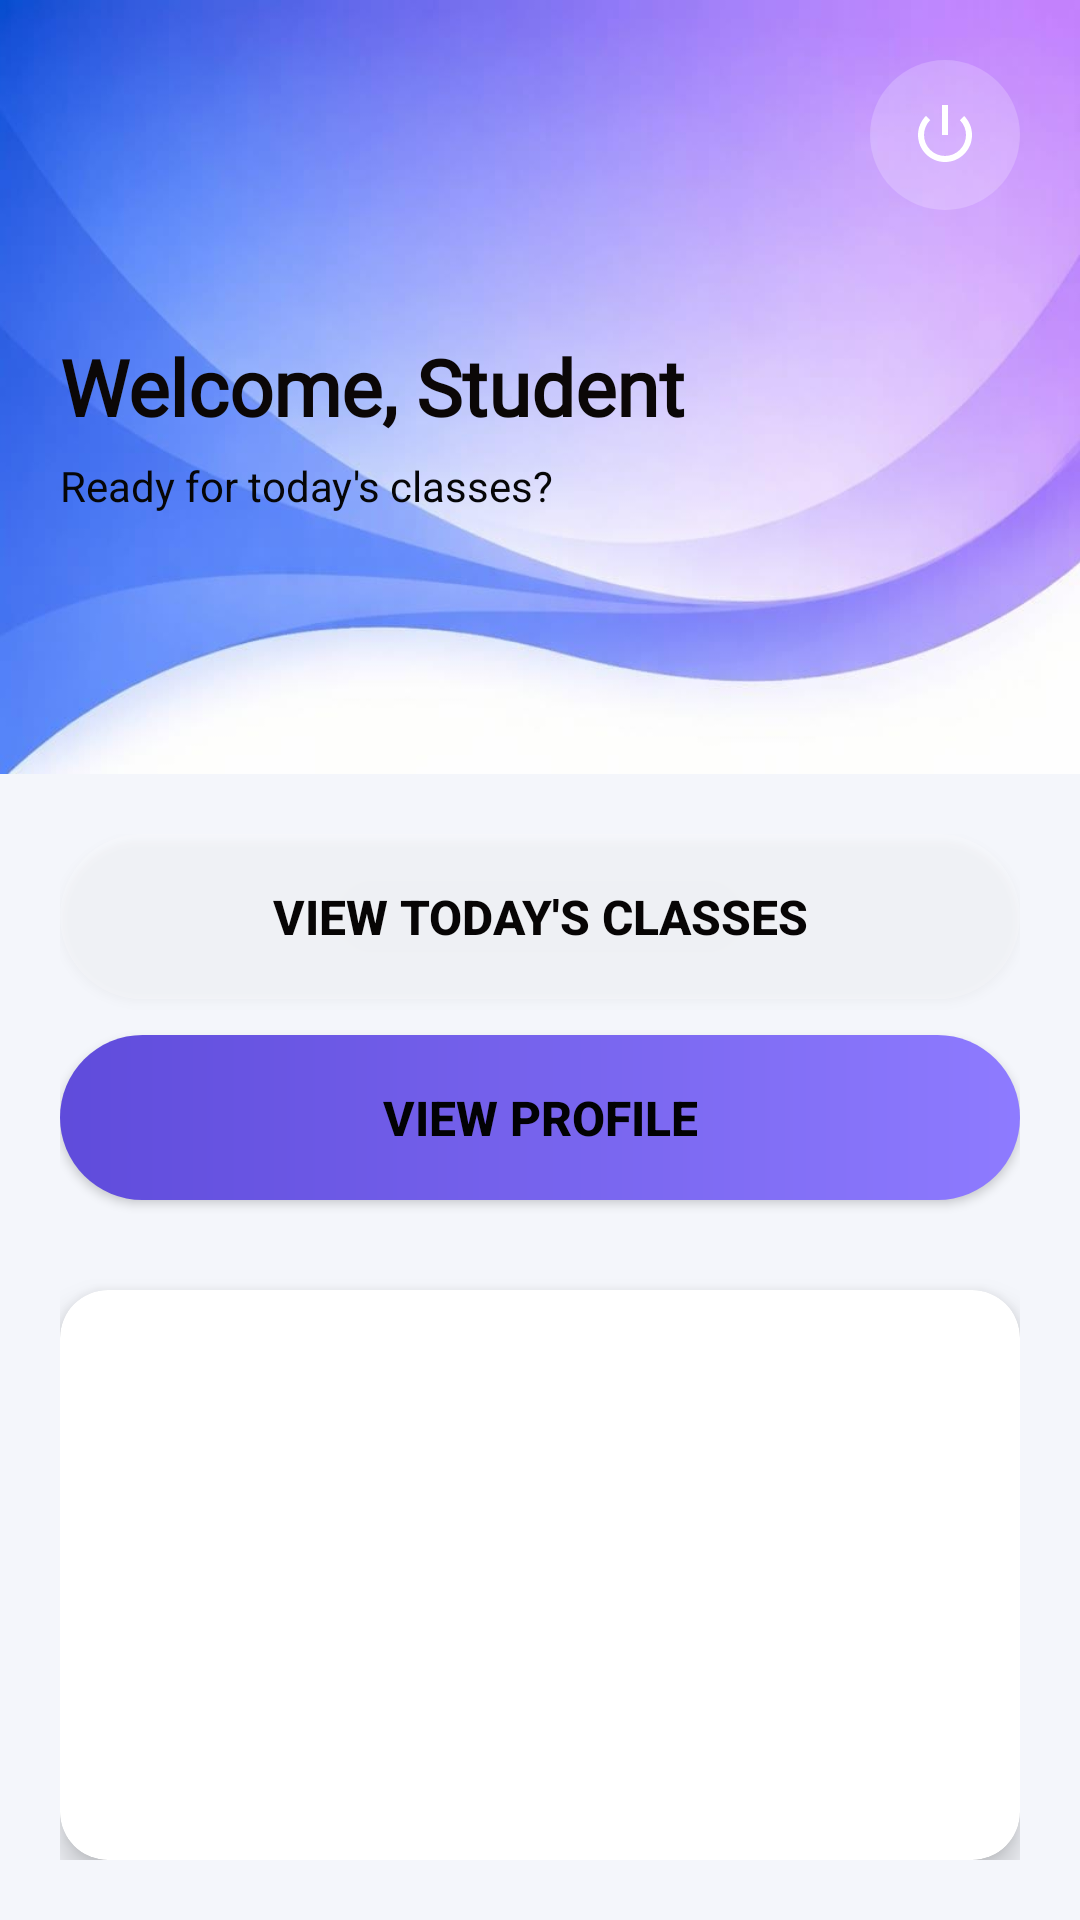

Named icons in this screenshot (1080px×1920px) and their bounding boxes, region(x1, y1, x2, y2):
lock power off: region(870, 60, 1020, 210)
